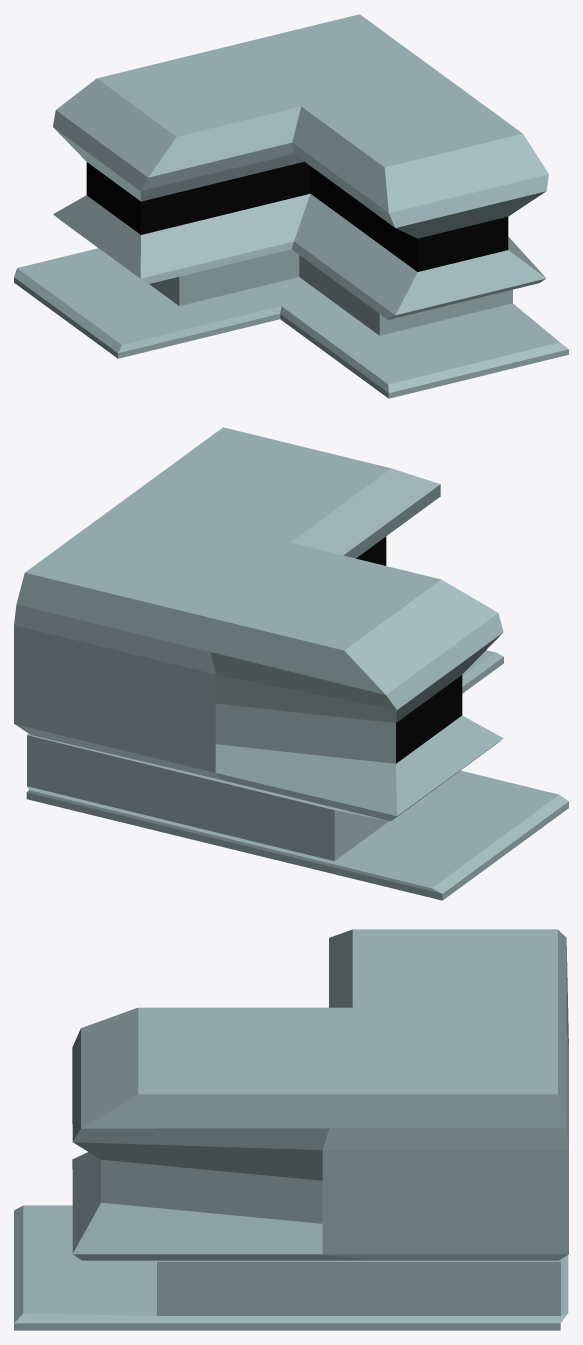
Rendered from comms_computer.fbx.
The picture shows the model from 3 angles, top to bottom: view 1: azimuth 30°, elevation 25°; view 2: azimuth 150°, elevation 25°; view 3: azimuth 270°, elevation 25°; orthographic projection. The views are drawn at different scales.
Visible parts, largest first — view 1: Plane.002; view 2: Plane.002; view 3: Plane.002.
Boxes of the visible parts, left/top/right/bottom form: Plane.002: left=14, top=14, right=568, bottom=398; Plane.002: left=14, top=427, right=568, bottom=900; Plane.002: left=14, top=929, right=568, bottom=1330.
Bounding box in the file's own units: 388 × 196 × 415.
